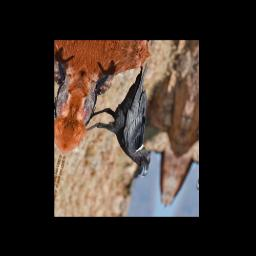Crow: (76, 51, 175, 179)
